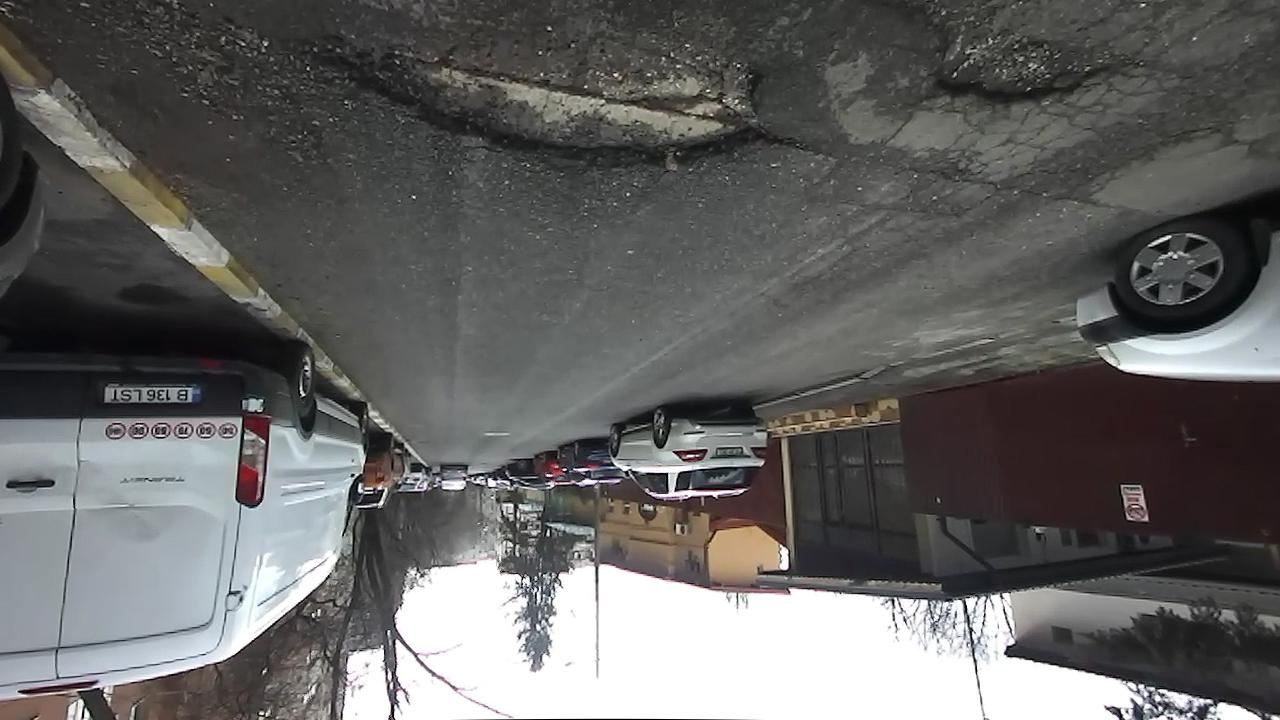pothole: (279, 7, 812, 183), (904, 11, 1131, 107)
